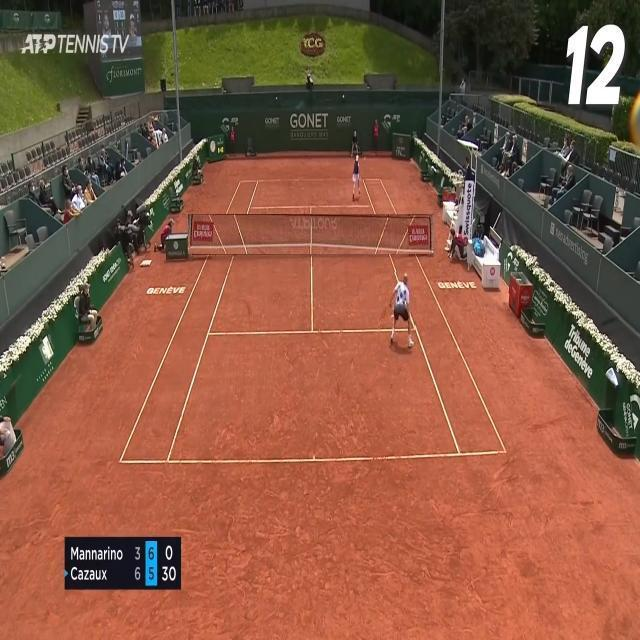court: (118, 178, 507, 464)
net: (188, 214, 434, 254)
player: (390, 272, 416, 348)
